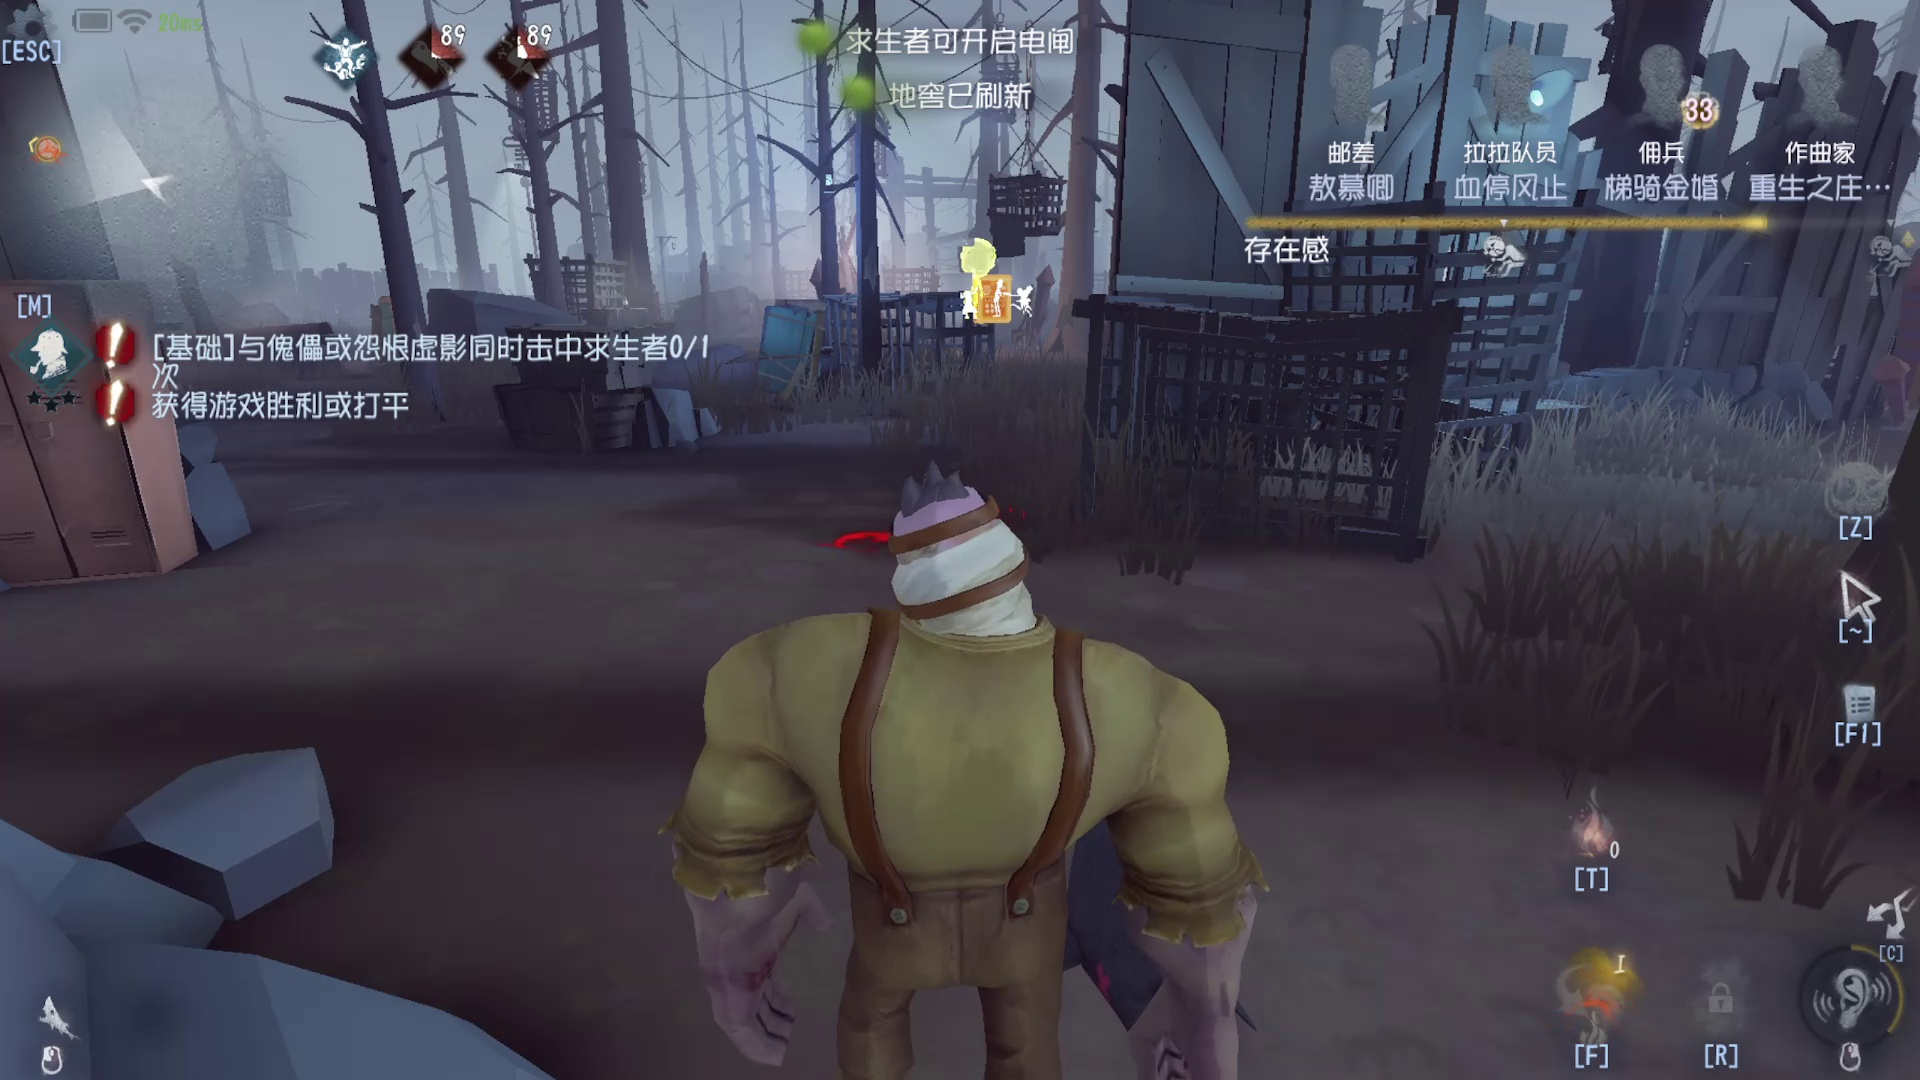设置: (1, 1, 75, 73)
